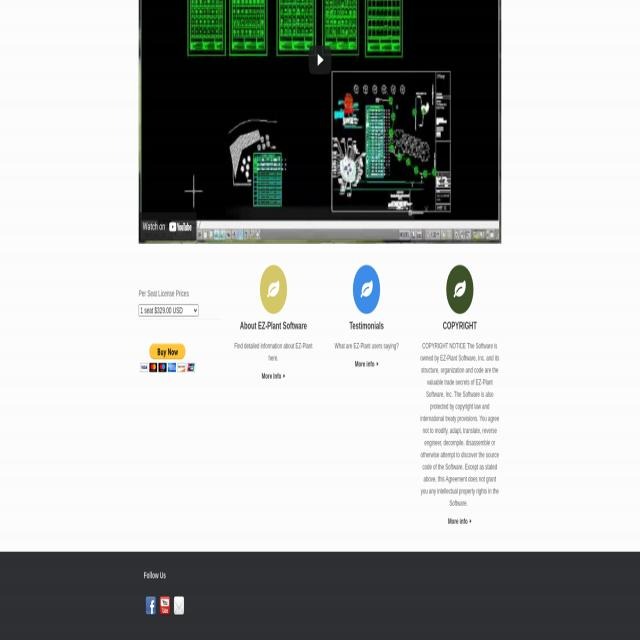button: (138, 0, 502, 244), (139, 343, 196, 372), (352, 266, 380, 314), (446, 266, 474, 313), (260, 266, 287, 313), (146, 596, 156, 616), (160, 596, 170, 616), (174, 596, 184, 616)
field: (138, 304, 198, 316)
